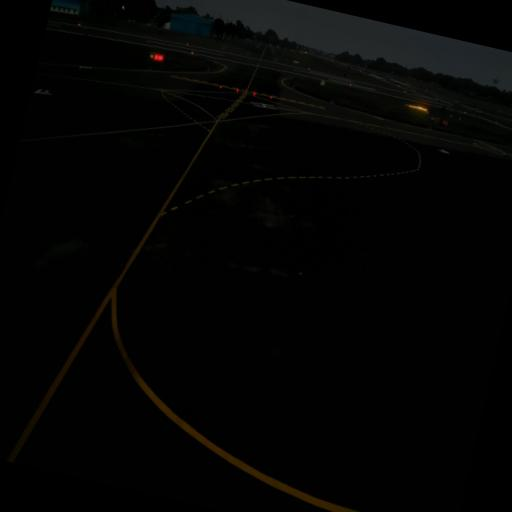on: (218, 83, 224, 91), (234, 88, 240, 96), (251, 90, 257, 98), (268, 94, 274, 100)
